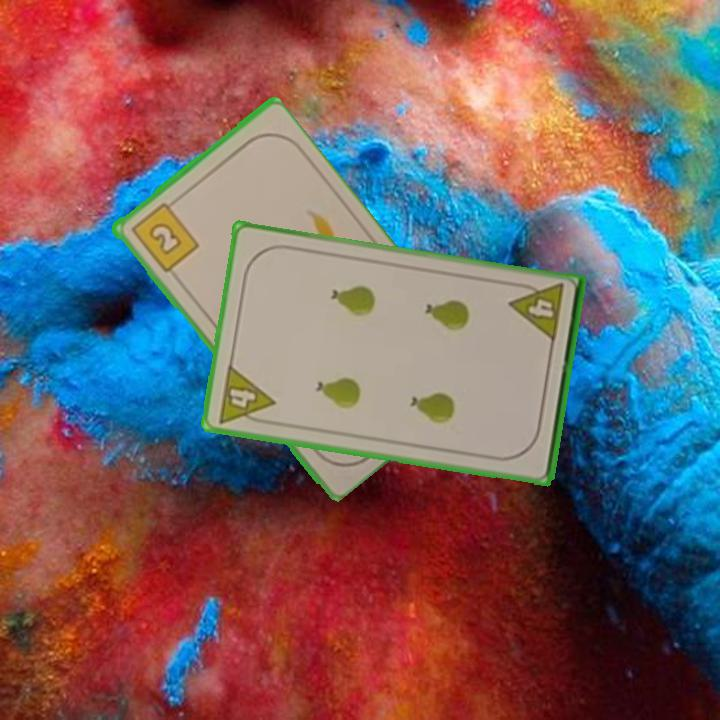2b: (127, 195, 201, 276)
4p: (214, 361, 278, 428), (506, 279, 567, 345)
